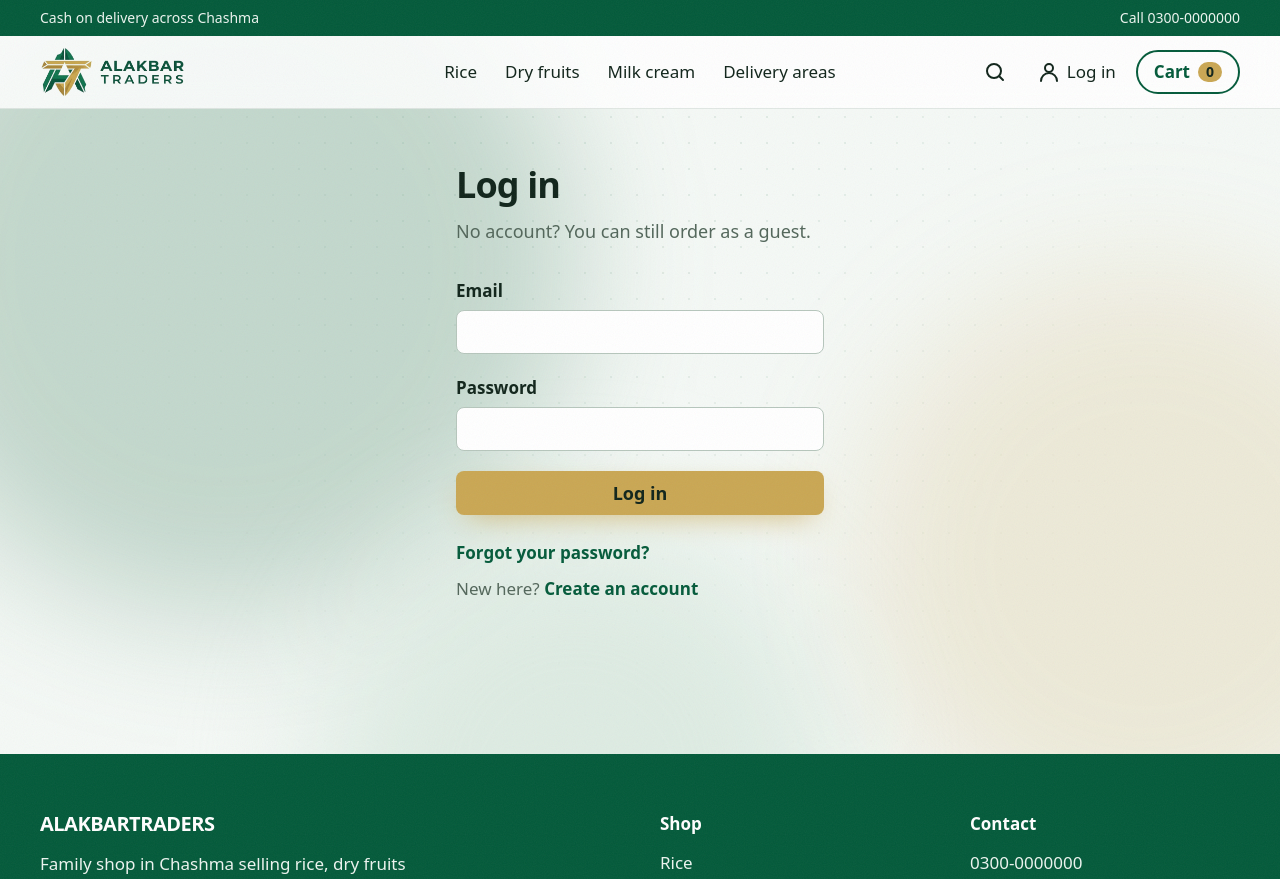
it: login page › goes back to the next page after login
Type "ali@example.com" into the field labelled "Email" at (640, 332), box [456,310,824,354]
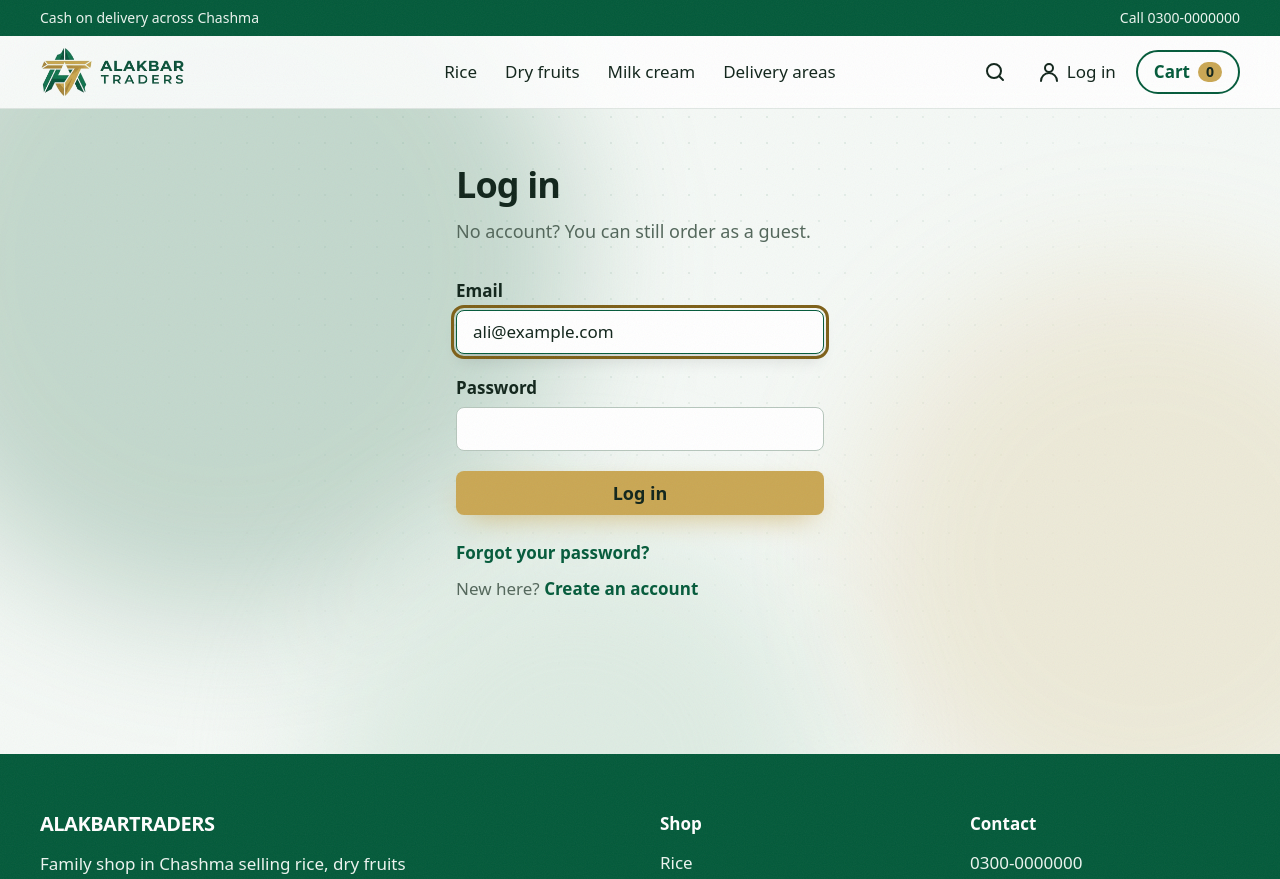
Type "Basmati-Sella-2026" into the password field labelled "Password" at (640, 429), box [456,407,824,451]
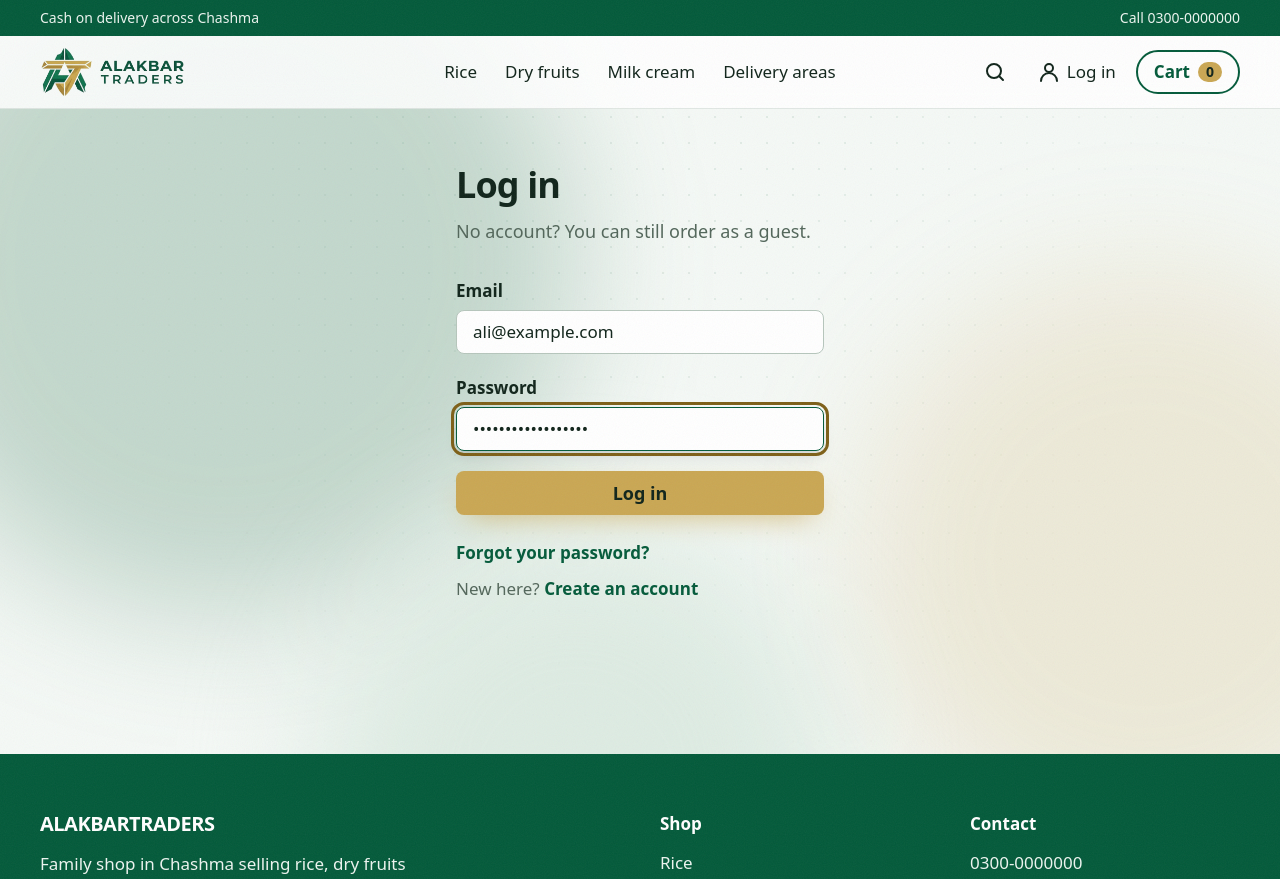
Click the button "Log in" at (640, 493), box [456,471,824,515]
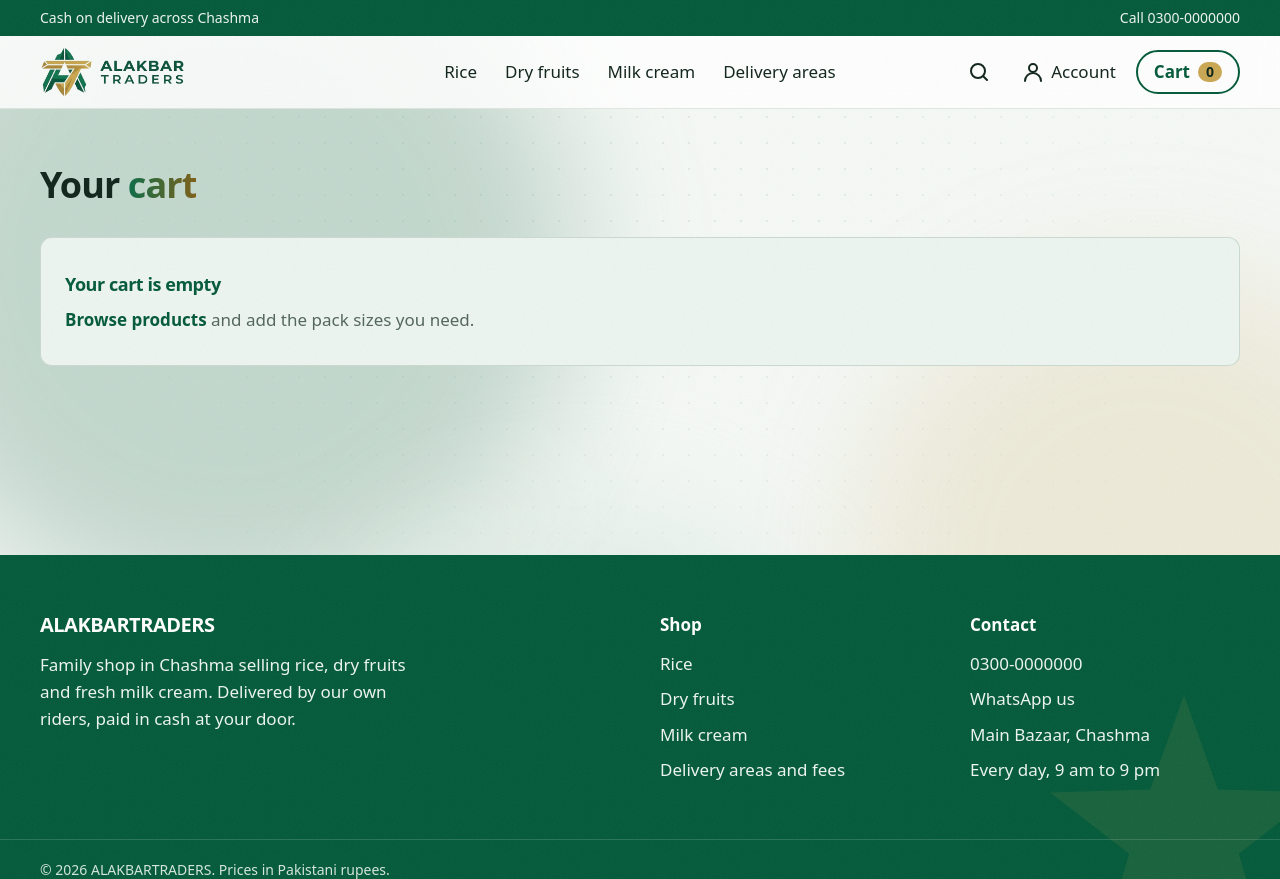
Result: the heading "Your cart" is shown at [40,160,196,209]
